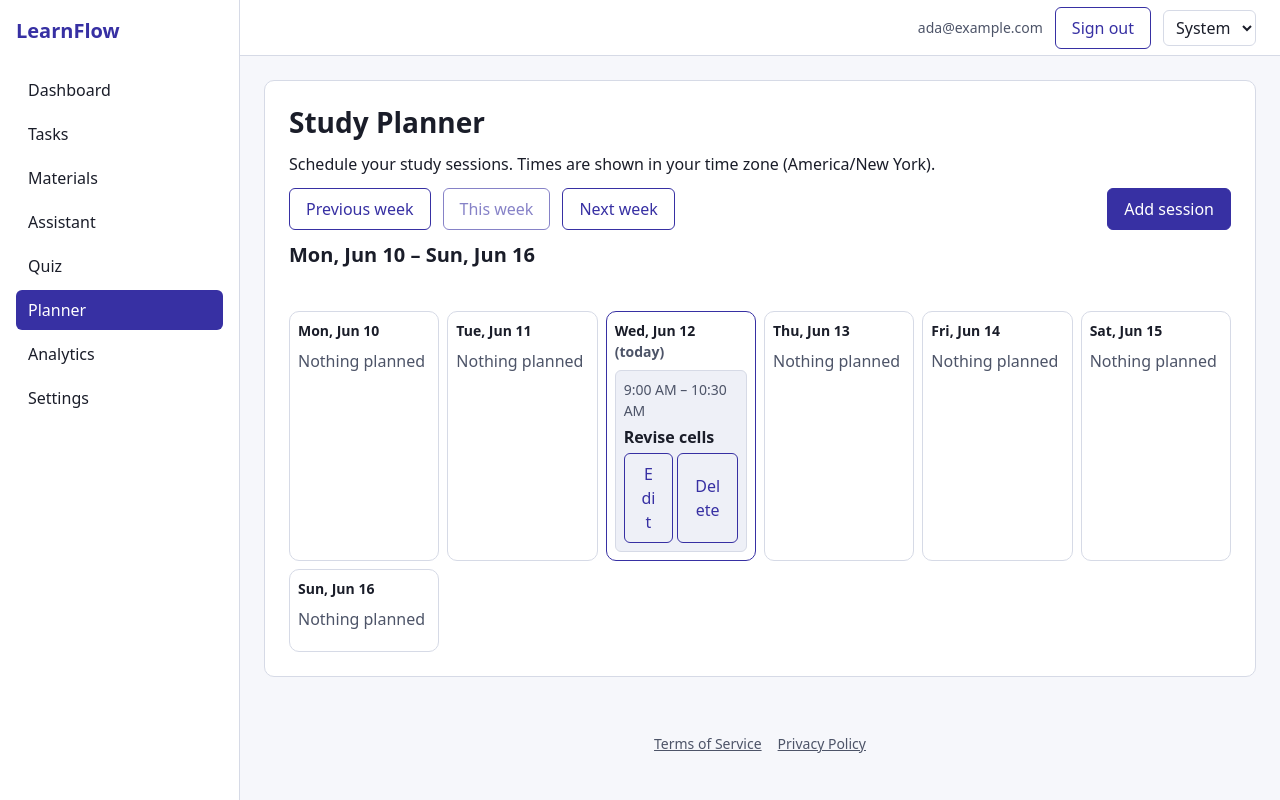
planner: editing and deleting › asks before deleting, and keeps the session if the user cancels
The width and height of the screenshot is (1280, 800).
Expected: the heading "Study Planner" is shown, [289,103,485,141]
Click the button with aria-label "Delete: Revise cells". click: (708, 498)
box: [677,453,738,543]
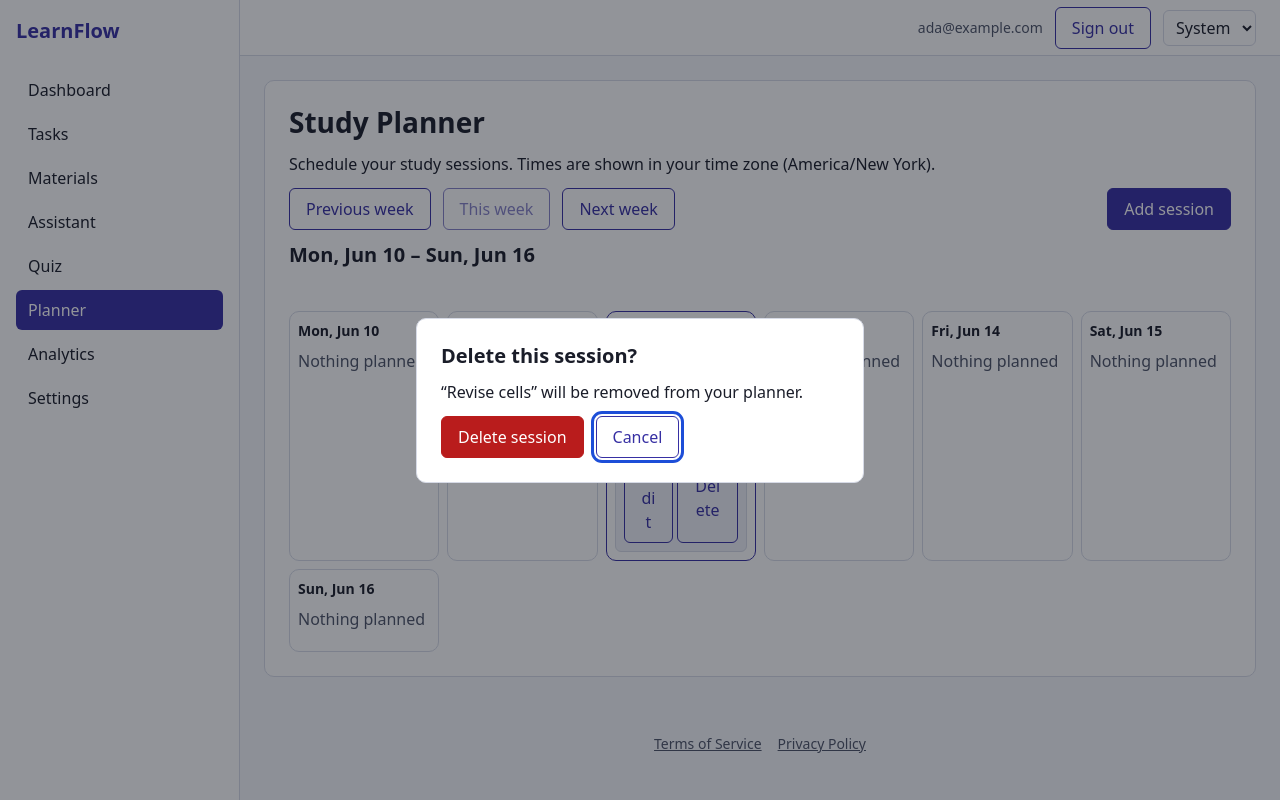
Now the dialog shows "Revise cells", box [447,380,531,402]
Click the button "Cancel". click: (637, 436)
box: [596,416,679,458]
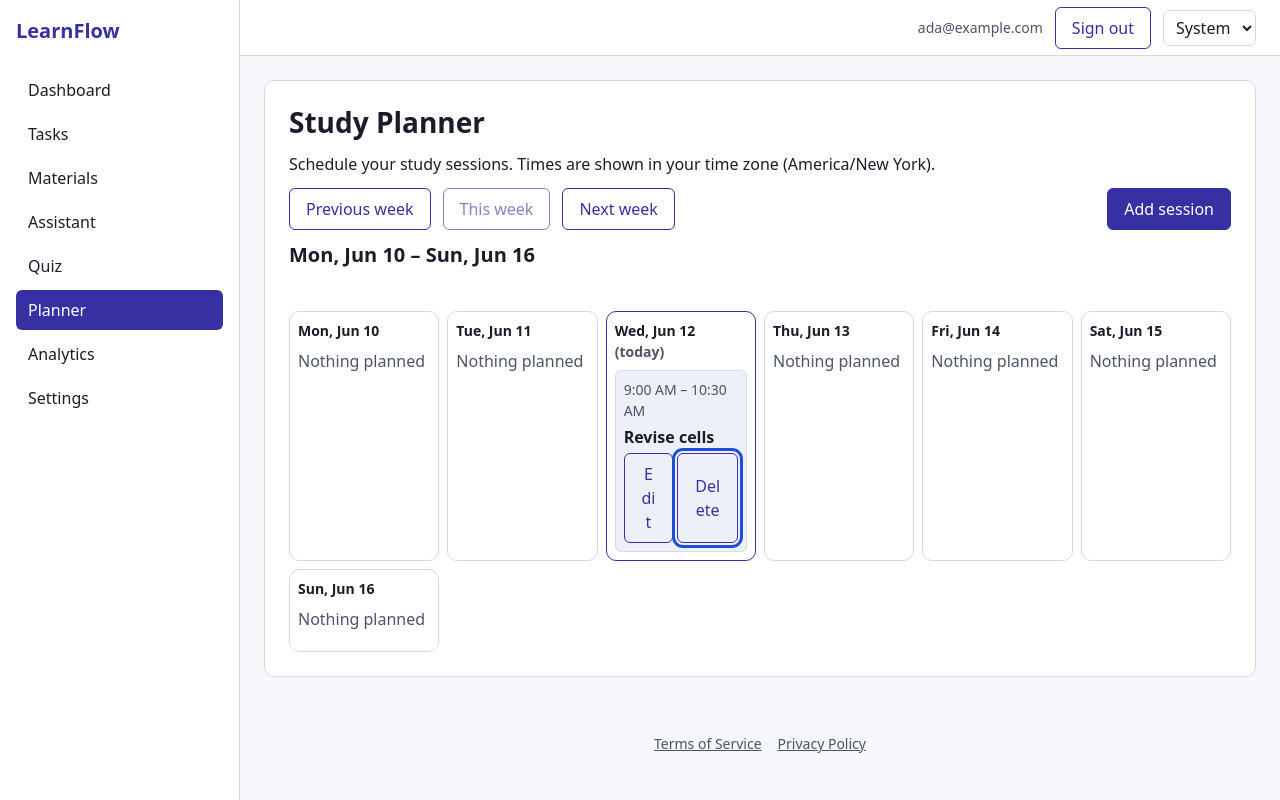
Expected: the text "Revise cells" is shown, [624,426,714,448]
Now the dialog is gone
